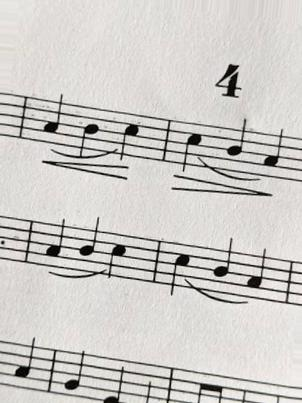note: (165, 237, 196, 301), (240, 247, 271, 308), (9, 335, 39, 397), (38, 87, 67, 147), (209, 237, 237, 299), (60, 346, 92, 400), (73, 218, 103, 273), (178, 115, 205, 176), (222, 118, 249, 176), (260, 127, 288, 180), (116, 107, 140, 166), (44, 216, 68, 273), (75, 105, 101, 157), (103, 228, 127, 283)
